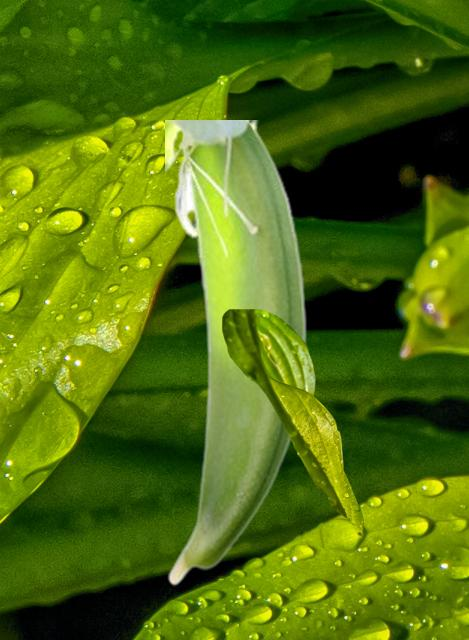pea: (165, 120, 309, 585)
